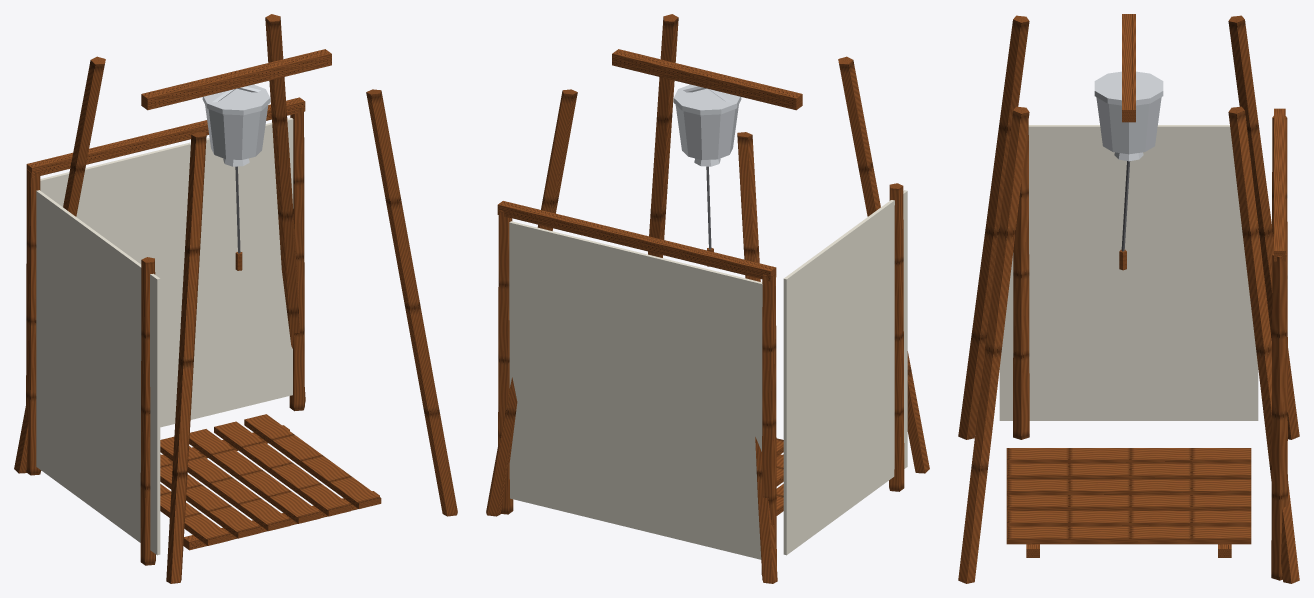
File: safari-camp-and-bush-lodge-bucket-shower-frame-c54d734e__37670.glb
3 views of the same model, side by side, from view 1: azimuth 30°, elevation 25°; view 2: azimuth 150°, elevation 25°; view 3: azimuth 270°, elevation 25° (orthographic). The views are drawn at different scales.
Parts seen in each view (by area): view 1: bucket-shower-frame-canvas, bucket-shower-frame-timber, bucket/steel; view 2: bucket-shower-frame-canvas, bucket-shower-frame-timber, bucket/steel; view 3: bucket-shower-frame-canvas, bucket-shower-frame-timber, bucket/steel.
Part boxes in pixels (<box>): bucket-shower-frame-canvas: <box>36,118,293,555</box>; bucket-shower-frame-timber: <box>14,14,457,583</box>; bucket/steel: <box>202,84,270,166</box>; bucket-shower-frame-canvas: <box>509,190,907,559</box>; bucket-shower-frame-timber: <box>486,14,929,583</box>; bucket/steel: <box>673,84,741,166</box>; bucket-shower-frame-canvas: <box>999,125,1258,420</box>; bucket-shower-frame-timber: <box>958,14,1299,583</box>; bucket/steel: <box>1094,71,1163,161</box>.
Bounding box in the file's own units: 1.82 × 2.52 × 1.74.
Materials: 4 (1 with a texture image).
